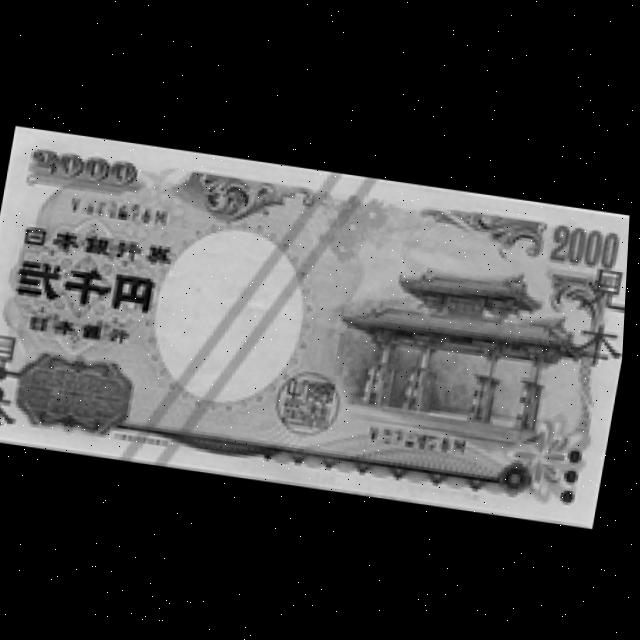banknote: (0, 122, 635, 525)
